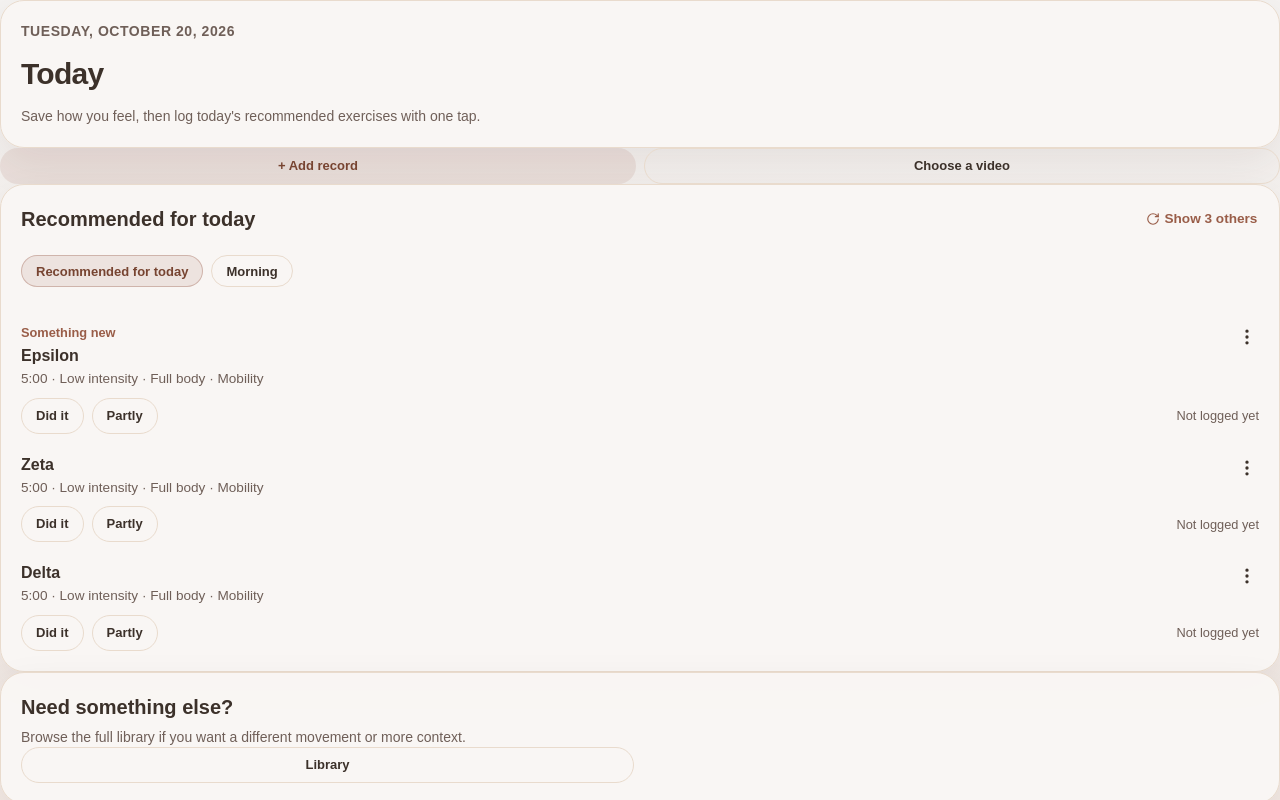
Scenario: logging from a set card works like a recommendation
What coordinates should you click on to do the following:
click the button "Morning"
I would click on:
 (252, 271)
Its box is [211, 255, 293, 287].
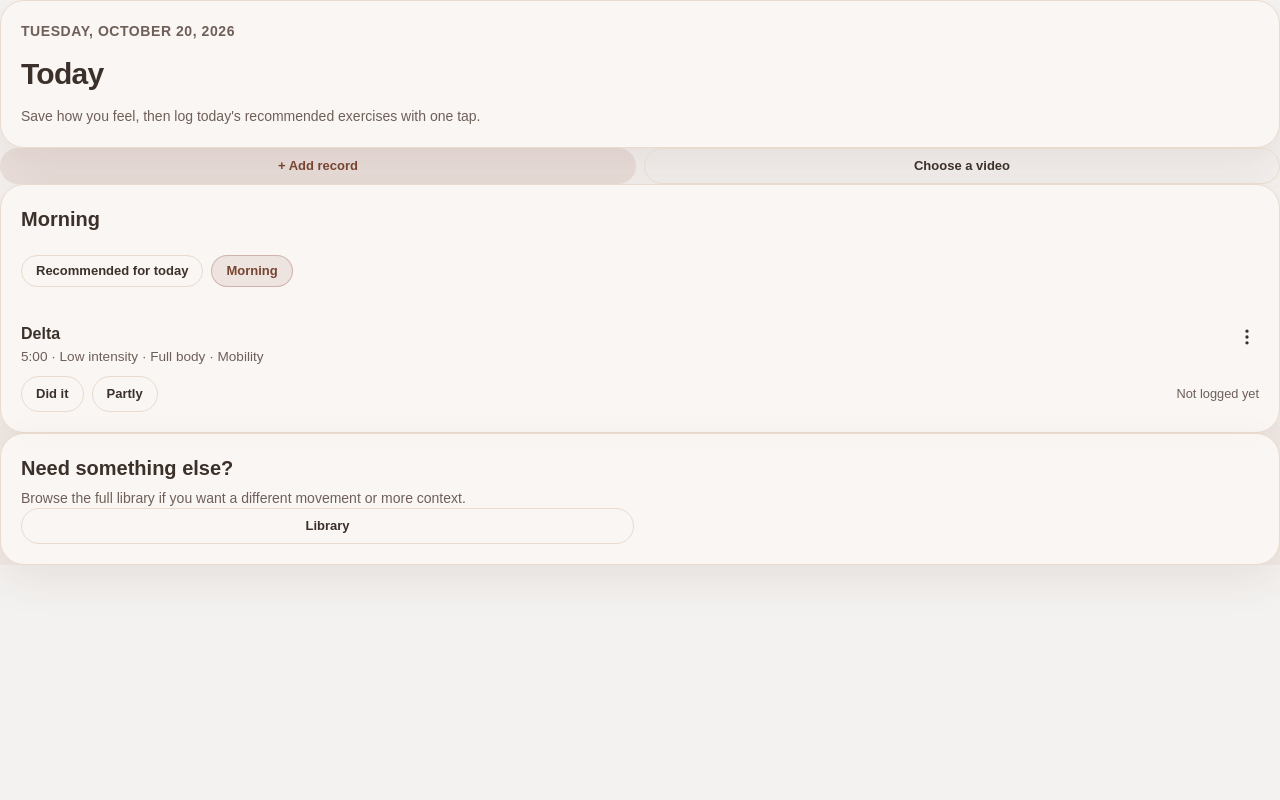
What coordinates should you click on to do the following:
click the button "Did it"
I would click on:
 (52, 394)
Its box is [21, 376, 84, 412].
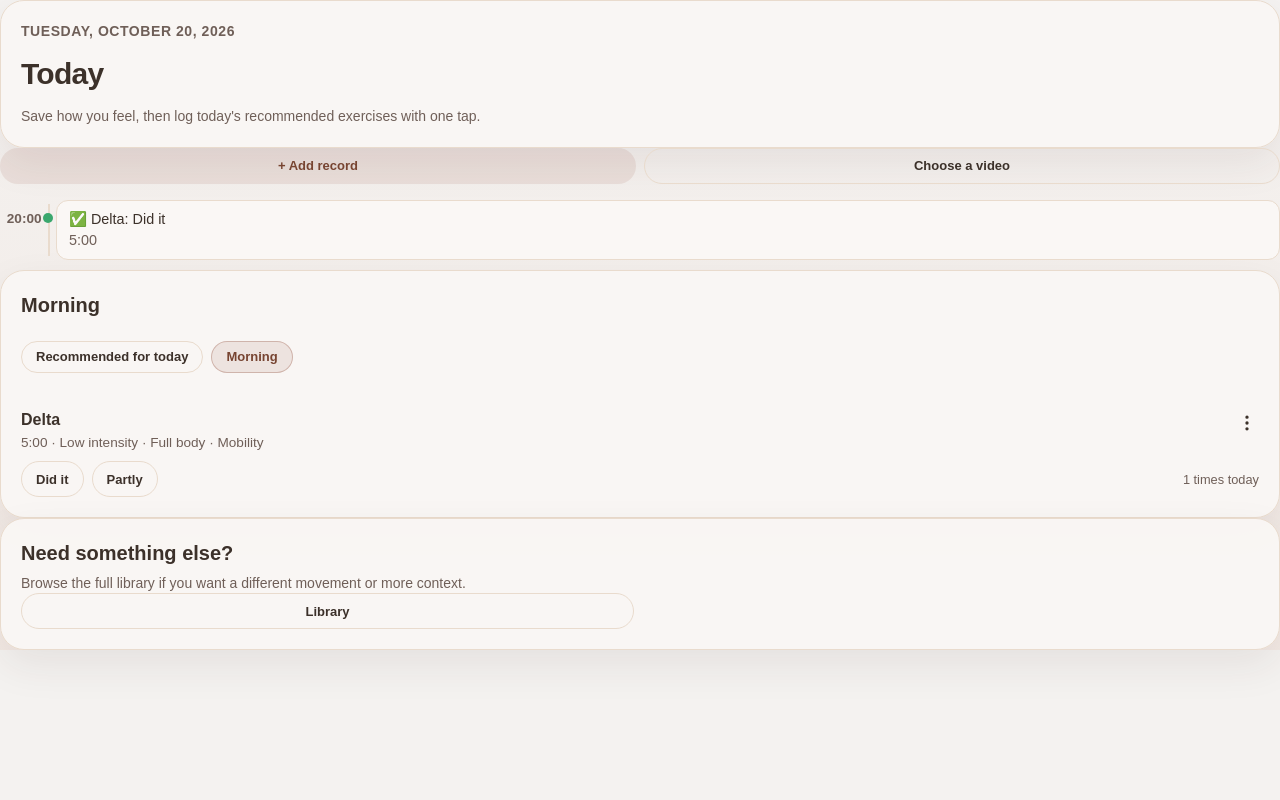
expect the text "1 times today" is shown: met, box [1183, 470, 1259, 489]
